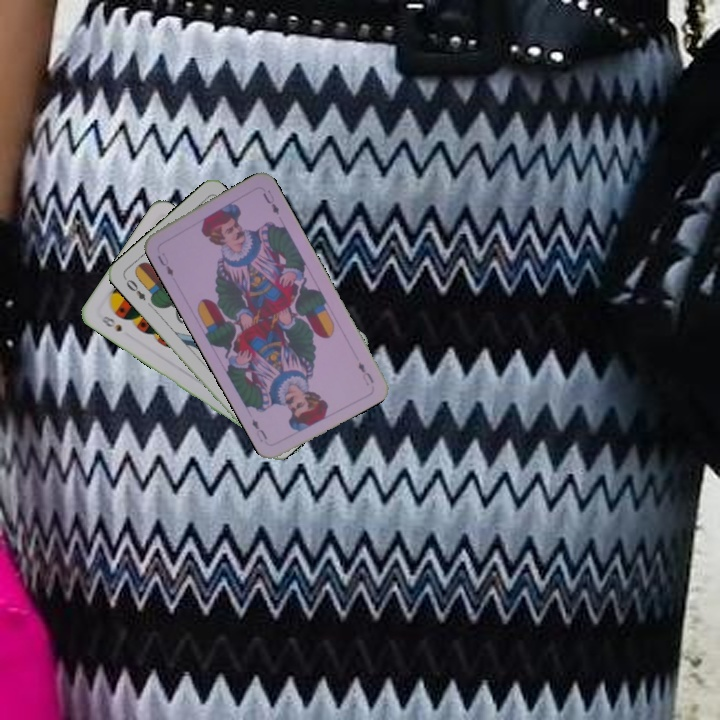EO: (120, 273, 148, 303)
EU: (153, 249, 176, 279), (354, 358, 376, 388)
S8: (97, 312, 125, 334)
